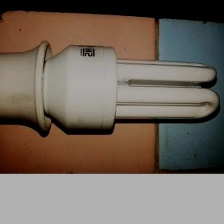light_bulb: (35, 41, 220, 137)
